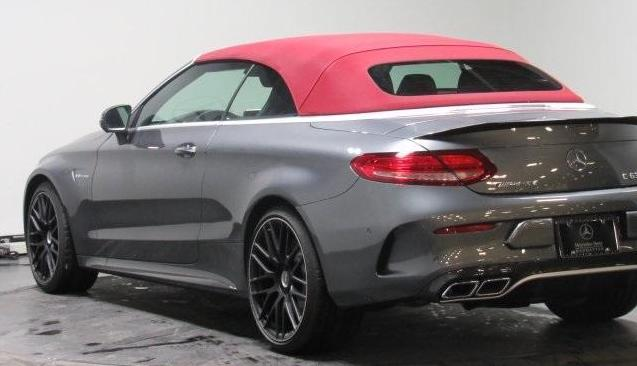C63AMG: (20, 29, 637, 357)
